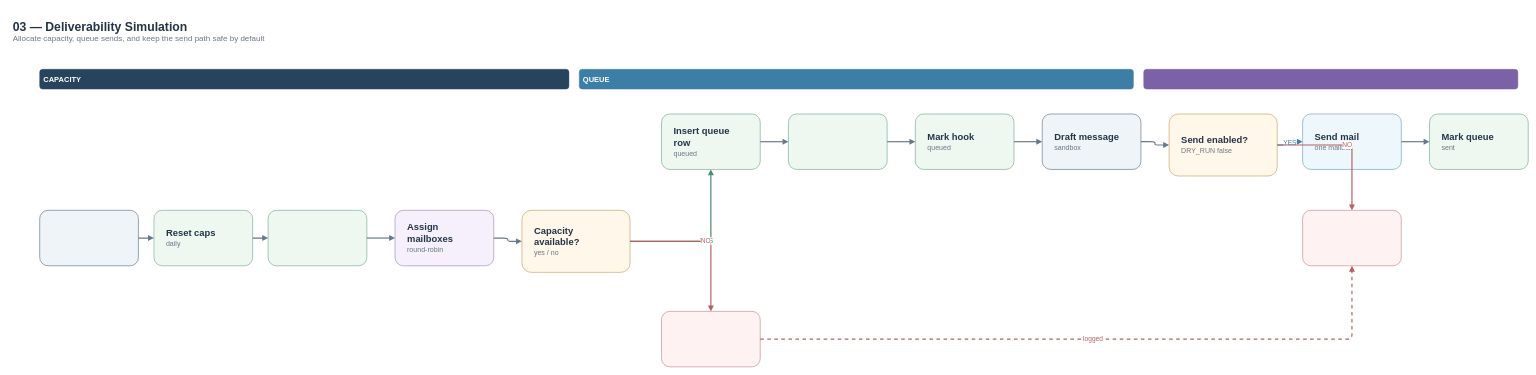
This 1536x375 diagram has some shape labels left out. The shapes that lost their labels are listed below. From the top down, each one's box as (x1, y1, x2, y2) in pixels, then its label:
(1143, 69, 1518, 89): SEND PATH
(788, 114, 887, 169): Increment counter mailbox
(39, 210, 138, 266): Poll queued hooks every 30 min
(268, 210, 367, 266): Get hooks + caps capacity
(1302, 210, 1401, 266): Record dry-run safe default
(661, 311, 760, 367): Log capped no capacity
